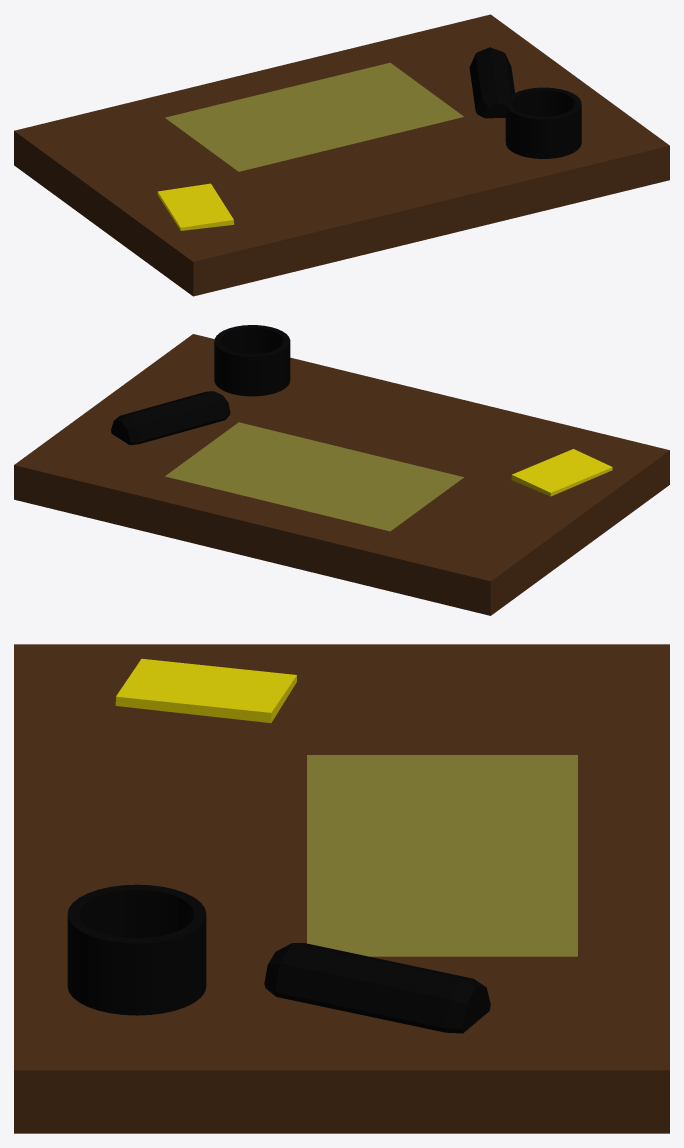
The model's file is workbench.fbx.
3 renders of one model, top to bottom at view 1: azimuth 30°, elevation 25°; view 2: azimuth 150°, elevation 25°; view 3: azimuth 270°, elevation 25°, orthographic. The views are drawn at different scales.
Visible parts, largest first — view 1: Cube, Plane, Cylinder, Cylinder.001, Cube.001; view 2: Cube, Plane, Cylinder, Cylinder.001, Cube.001; view 3: Cube, Plane, Cylinder, Cylinder.001, Cube.001.
Part boxes in pixels (x1=…): Cube: x1=14, y1=14, x2=669, y2=296; Plane: x1=165, y1=62, x2=463, y2=171; Cylinder: x1=505, y1=87, x2=581, y2=158; Cylinder.001: x1=469, y1=47, x2=514, y2=118; Cube.001: x1=157, y1=183, x2=234, y2=230; Cube: x1=14, y1=334, x2=669, y2=615; Plane: x1=165, y1=422, x2=463, y2=531; Cylinder: x1=214, y1=325, x2=290, y2=396; Cylinder.001: x1=111, y1=391, x2=230, y2=444; Cube.001: x1=511, y1=449, x2=612, y2=496; Cube: x1=14, y1=644, x2=669, y2=1133; Plane: x1=307, y1=755, x2=577, y2=956; Cylinder: x1=67, y1=884, x2=206, y2=1015; Cylinder.001: x1=264, y1=943, x2=490, y2=1033; Cube.001: x1=115, y1=658, x2=296, y2=722.
Bounding box in the file's own units: 7.43 × 1.11 × 4.84.
